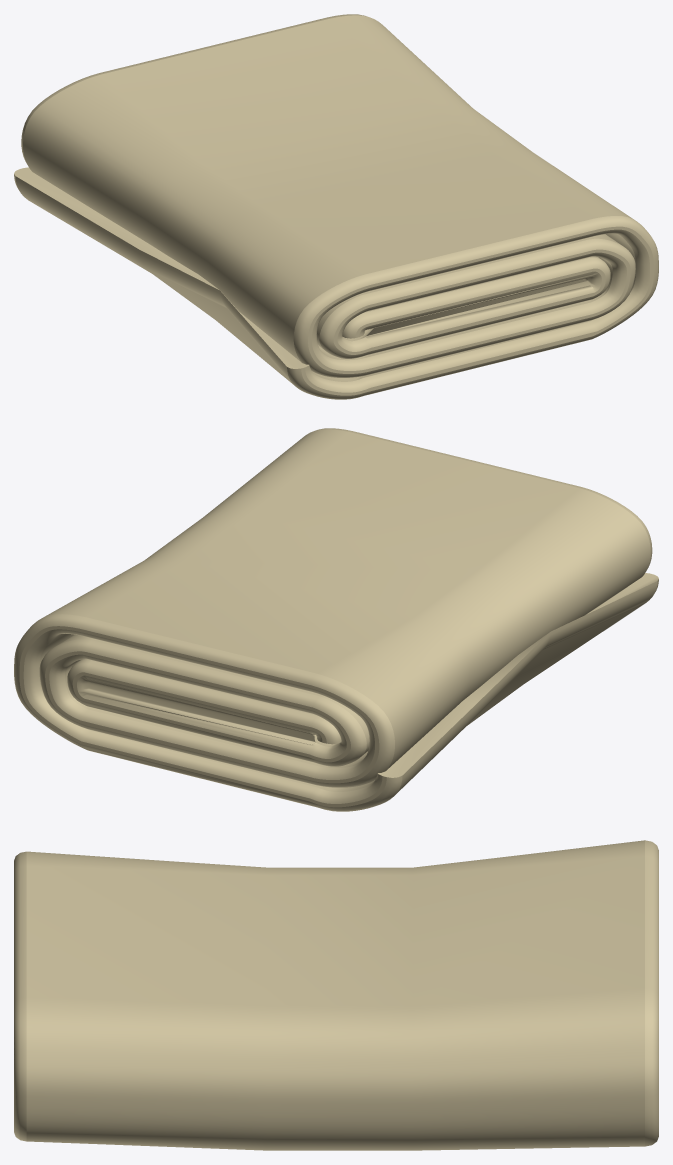
File: 热毛巾.fbx
The picture shows the model from 3 angles, top to bottom: view 1: azimuth 30°, elevation 25°; view 2: azimuth 150°, elevation 25°; view 3: azimuth 270°, elevation 25°; orthographic projection. The views are drawn at different scales.
Visible parts, largest first — view 1: 热毛巾; view 2: 热毛巾; view 3: 热毛巾.
Boxes of the visible parts, <box> form: 热毛巾: <box>14,14,658,399</box>; 热毛巾: <box>14,428,658,811</box>; 热毛巾: <box>14,840,658,1150</box>.
Bounding box in the file's own units: 90.48 × 30.18 × 111.
